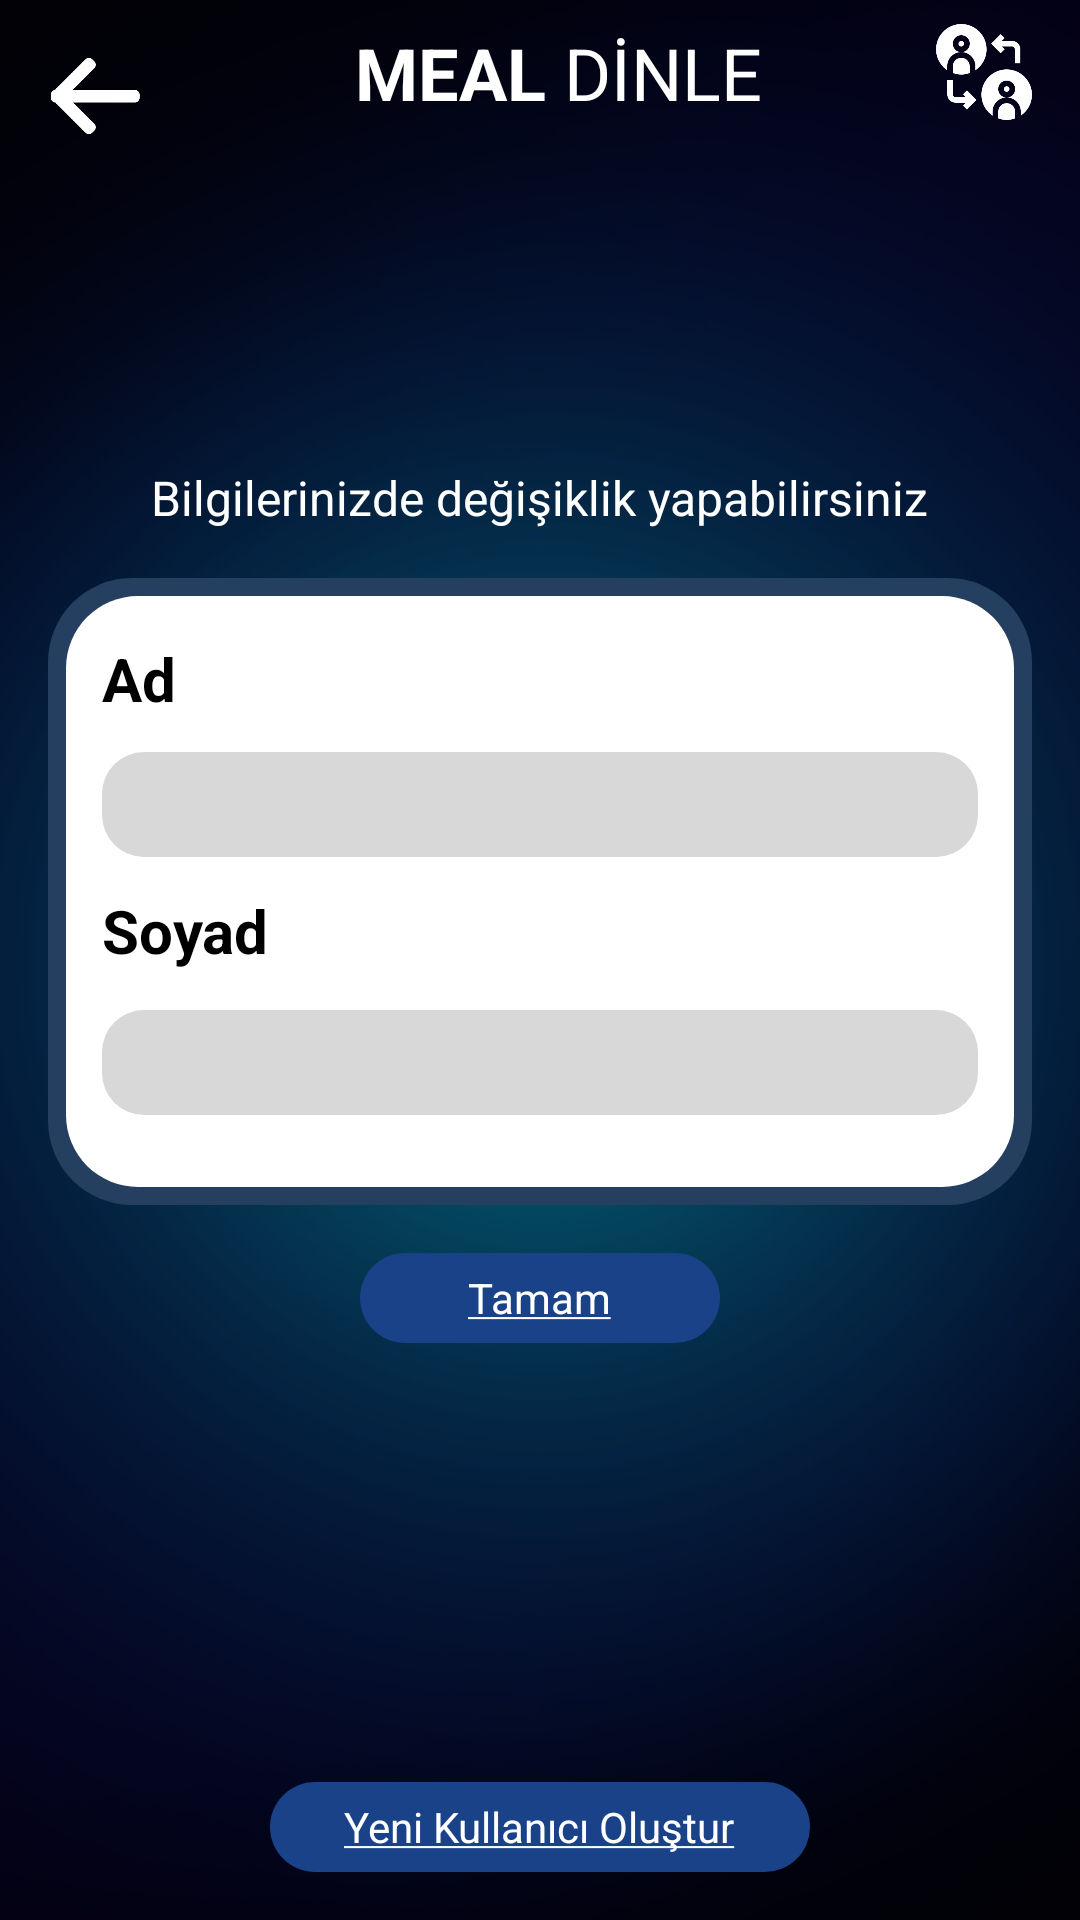

Icon click points for this 1080px x 1920px phone screenshot, format (x=x, y=y):
back: (x=95, y=96)
change user: (x=984, y=72)
